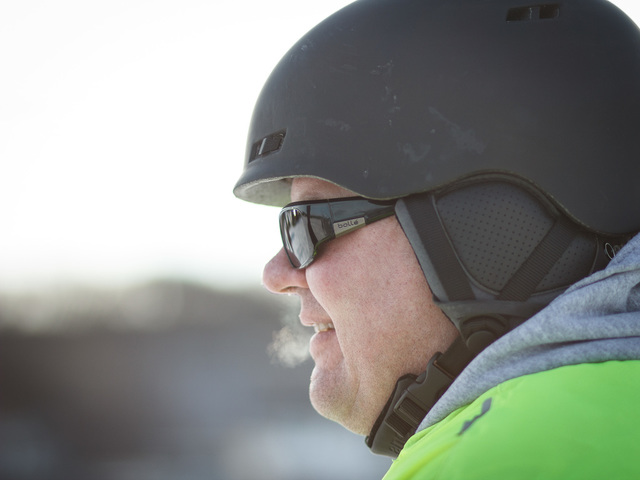helmet: (214, 5, 637, 241)
